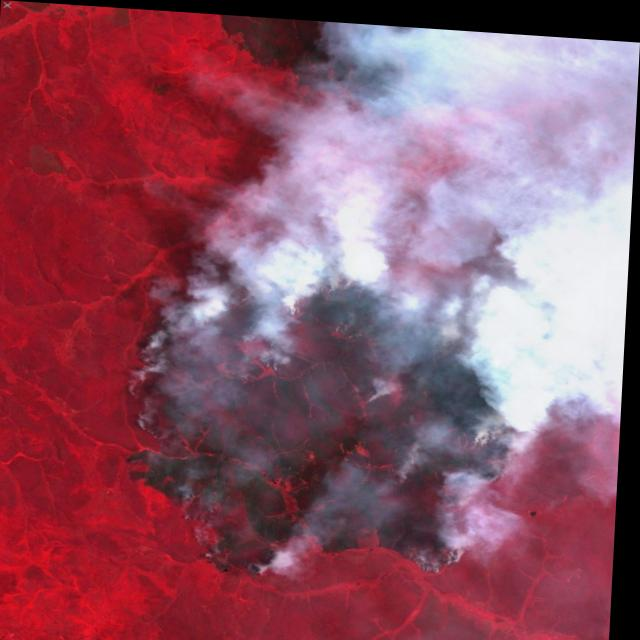fire: (113, 245, 614, 591)
